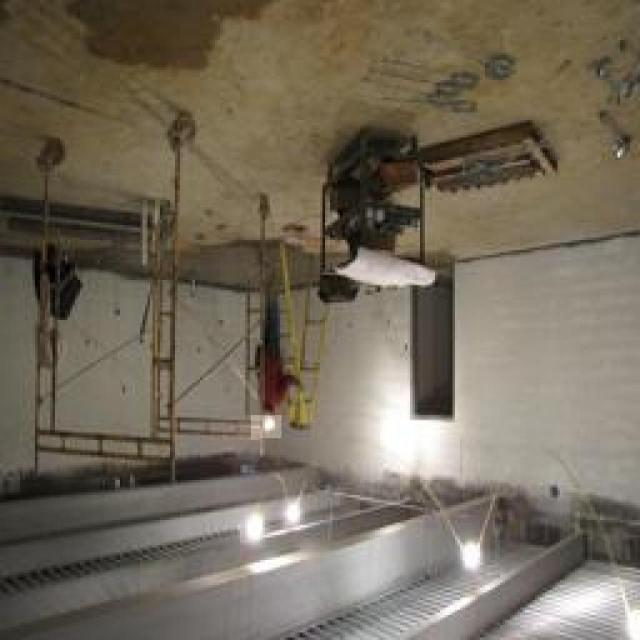Helmet: (246, 338, 290, 415), (251, 401, 281, 438)
